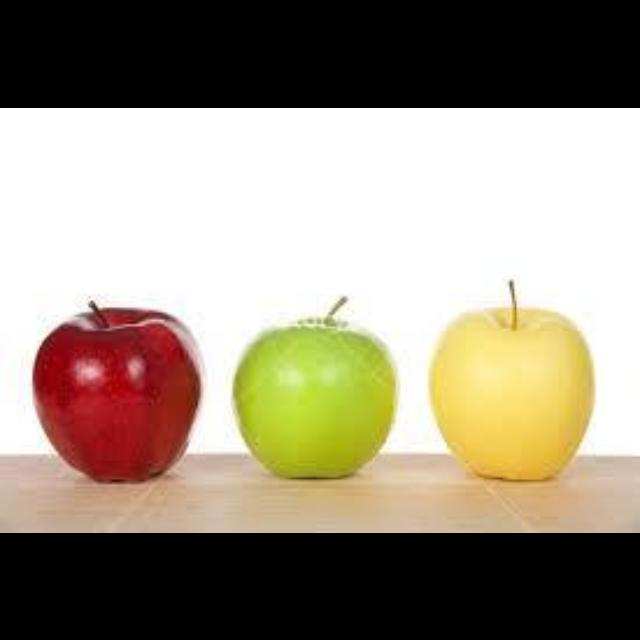apple: (431, 282, 593, 477), (33, 300, 200, 479), (233, 298, 396, 475)
